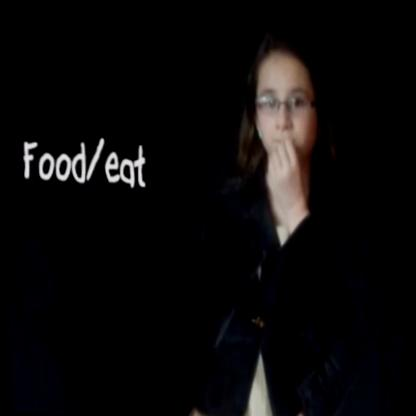Food: (193, 20, 345, 251)
